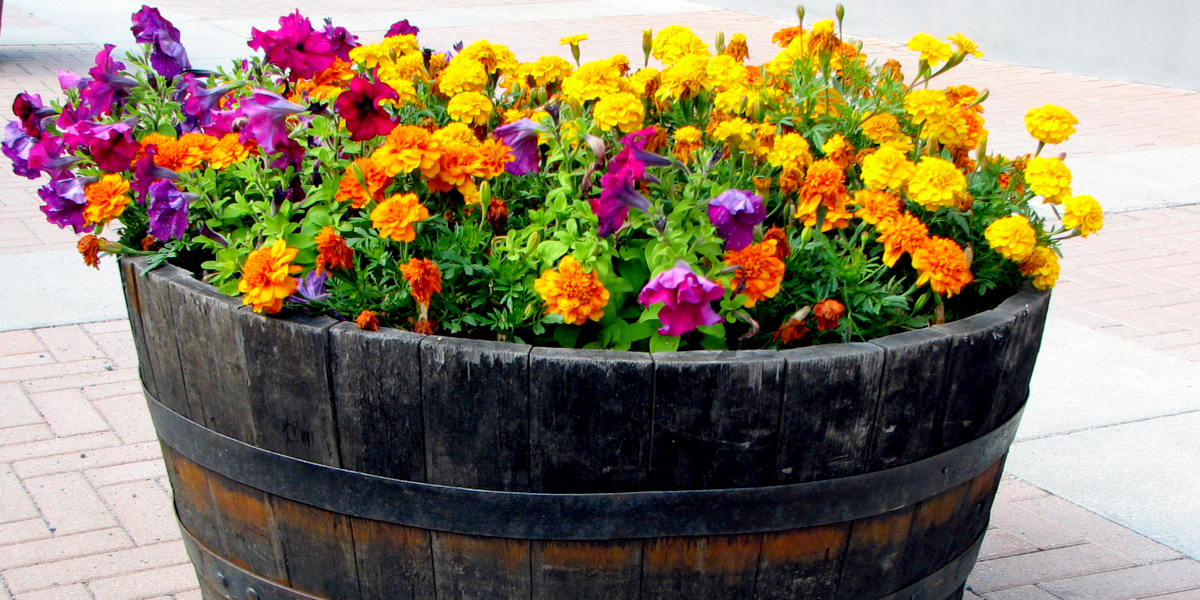plant: (4, 4, 1105, 600)
